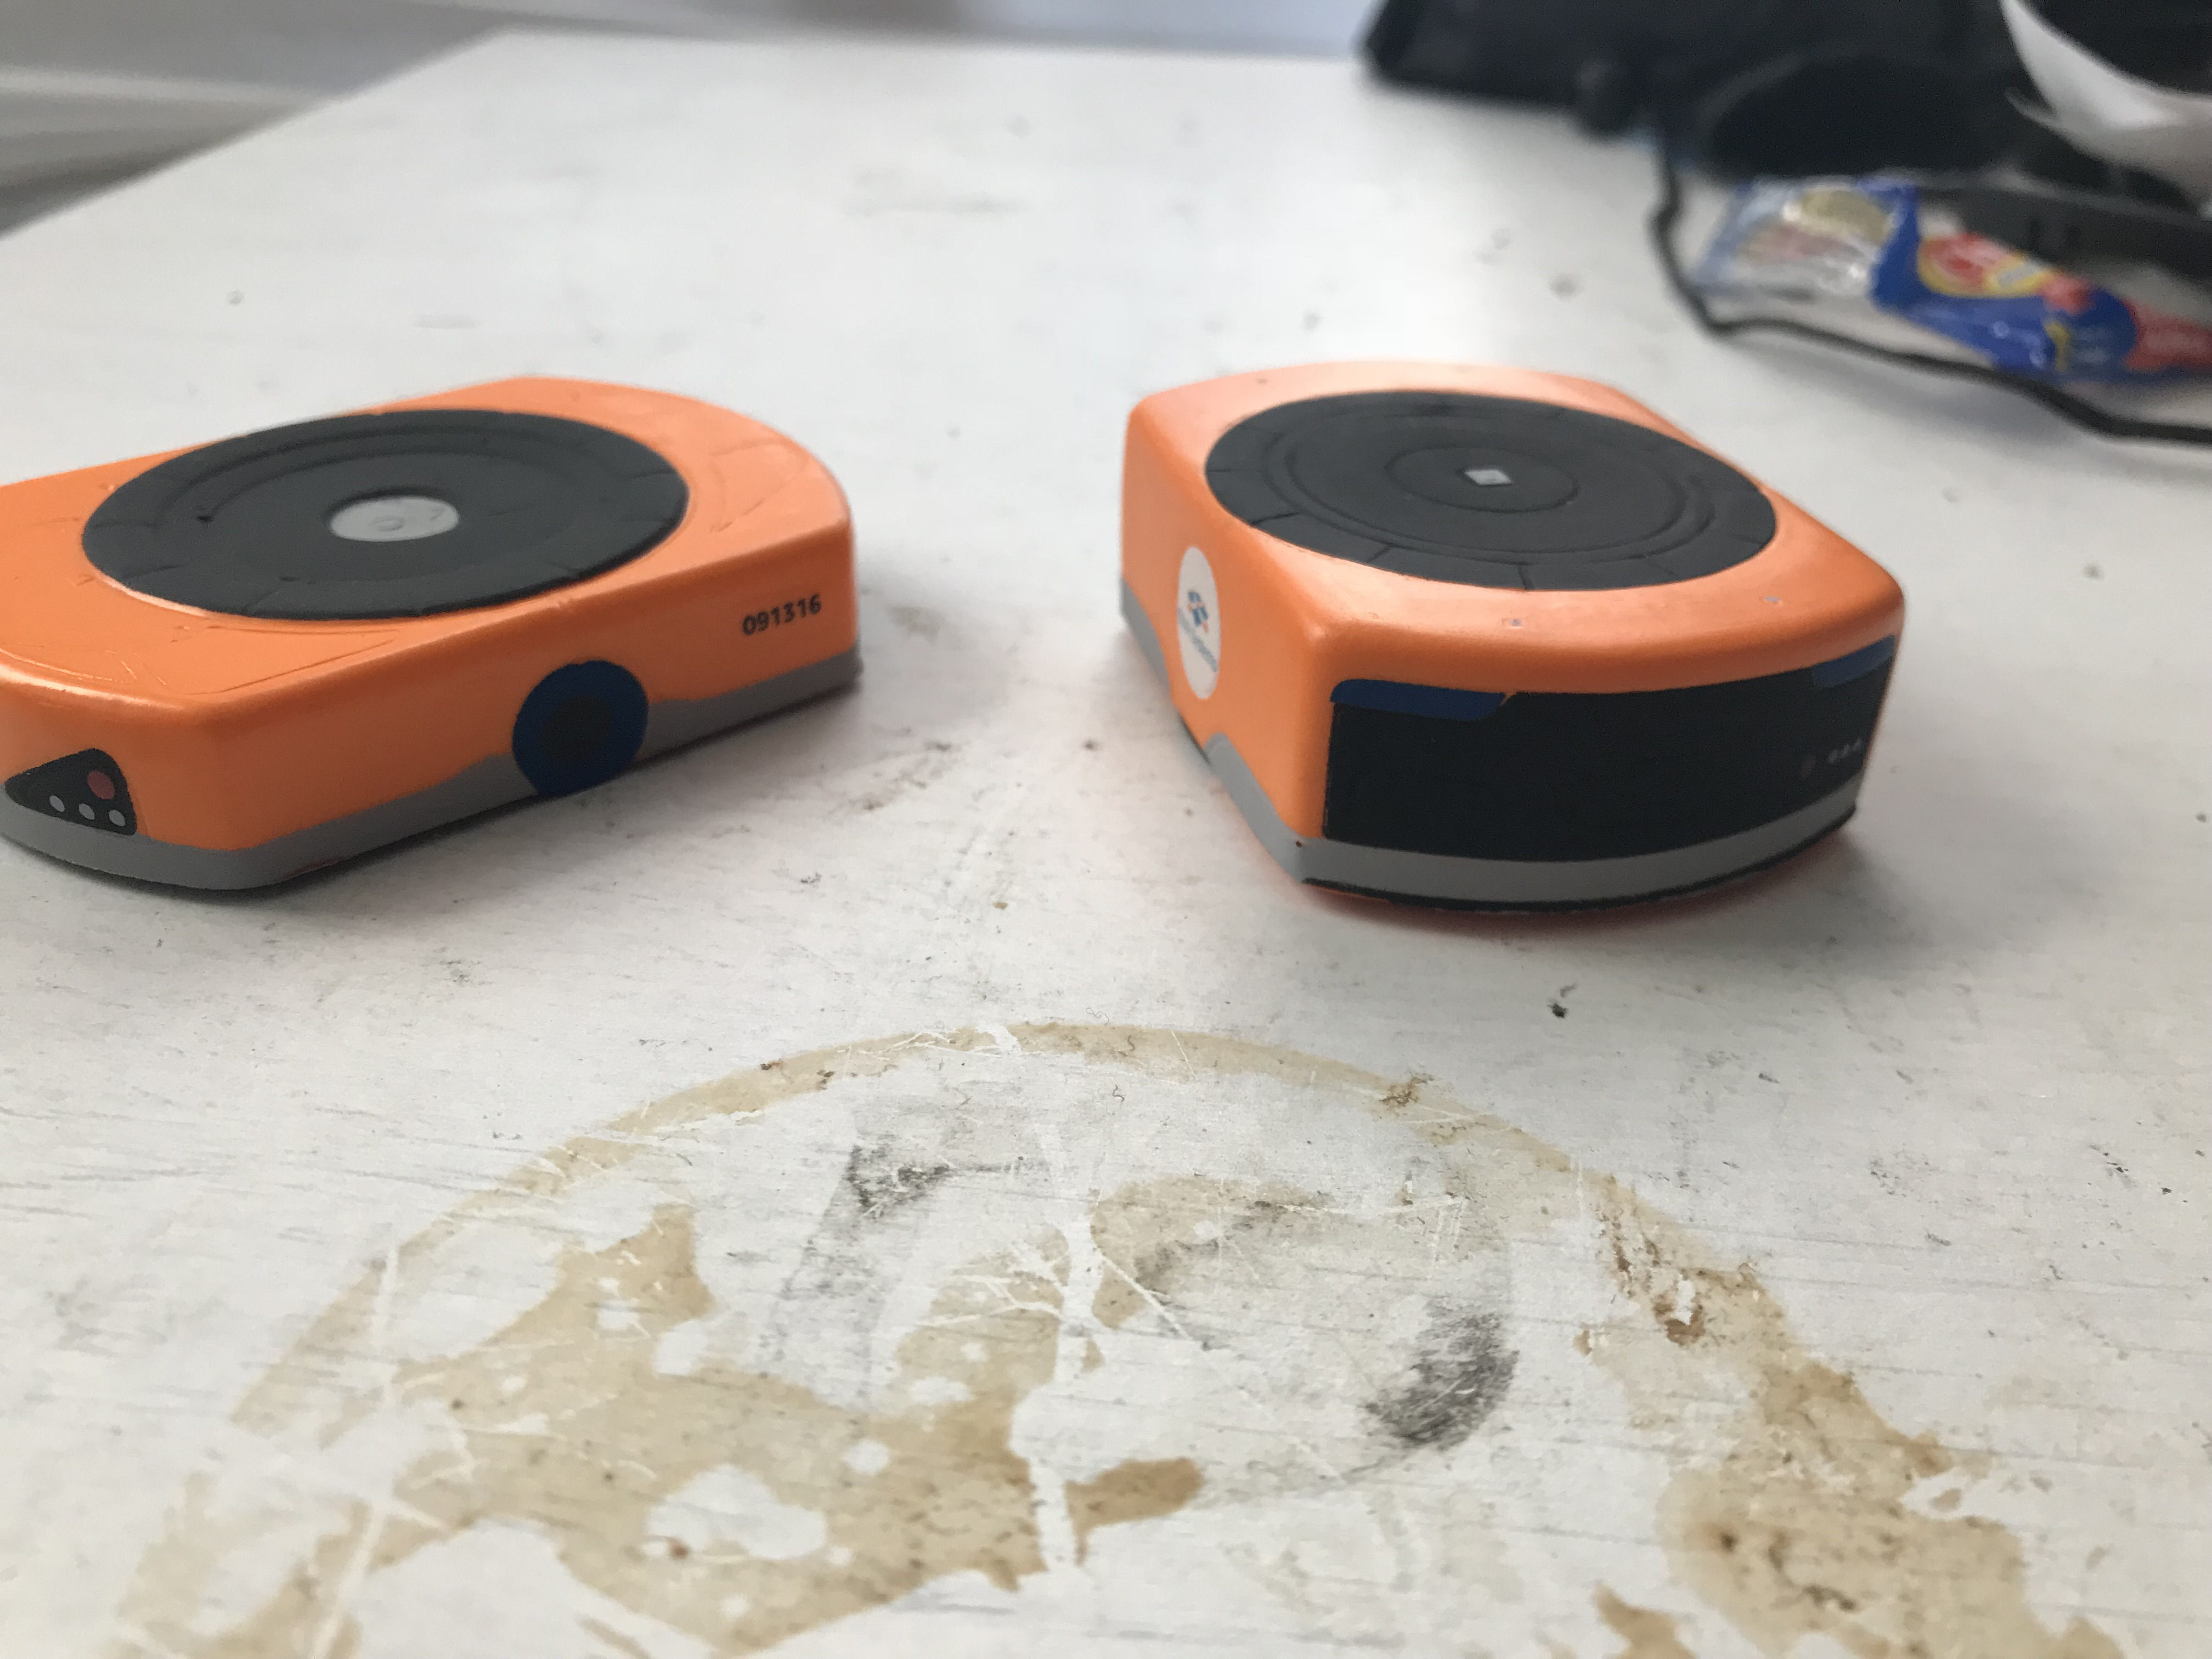amazon_bot: (1055, 296, 1926, 965), (7, 350, 904, 924)
